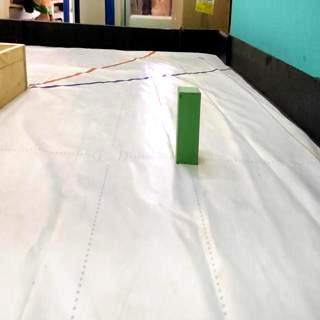greenbox: (174, 84, 200, 164)
